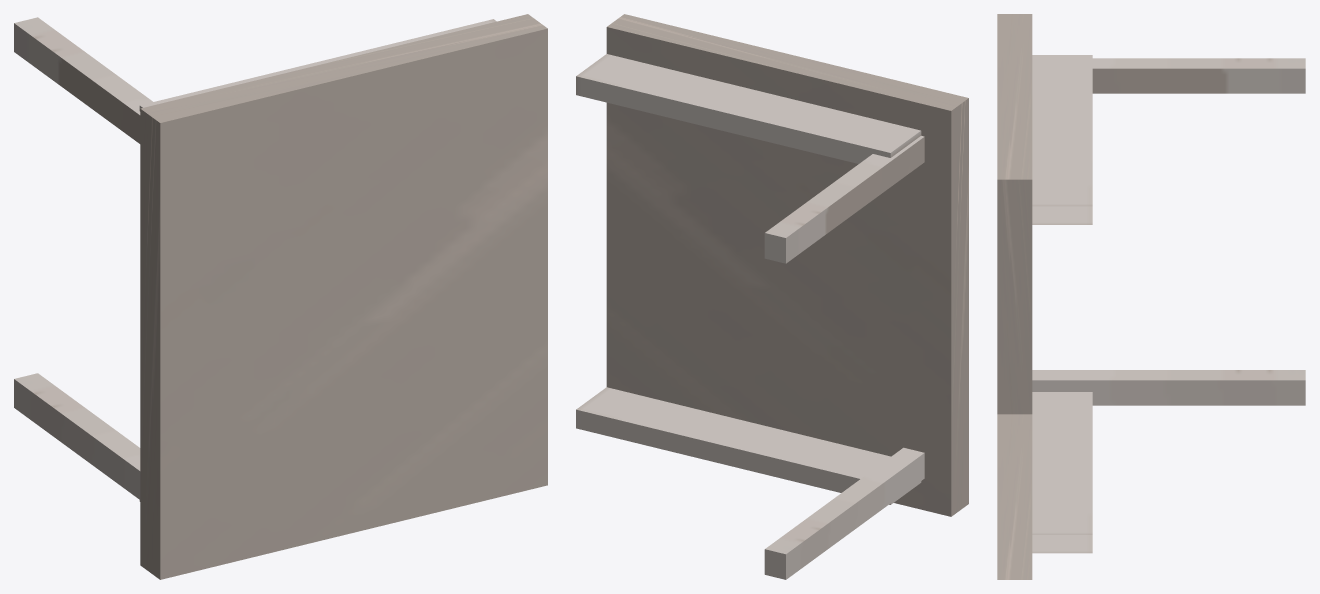
Rendered from pz_table_tables_high_01_large_smooth_0_0.obj.
The picture shows the model from 3 angles, left to right: view 1: azimuth 30°, elevation 25°; view 2: azimuth 150°, elevation 25°; view 3: azimuth 270°, elevation 25°; orthographic projection. The views are drawn at different scales.
Bounding box in the file's own units: 0.8438 × 0.95 × 0.6634.
Materials: 1 (1 with a texture image).
